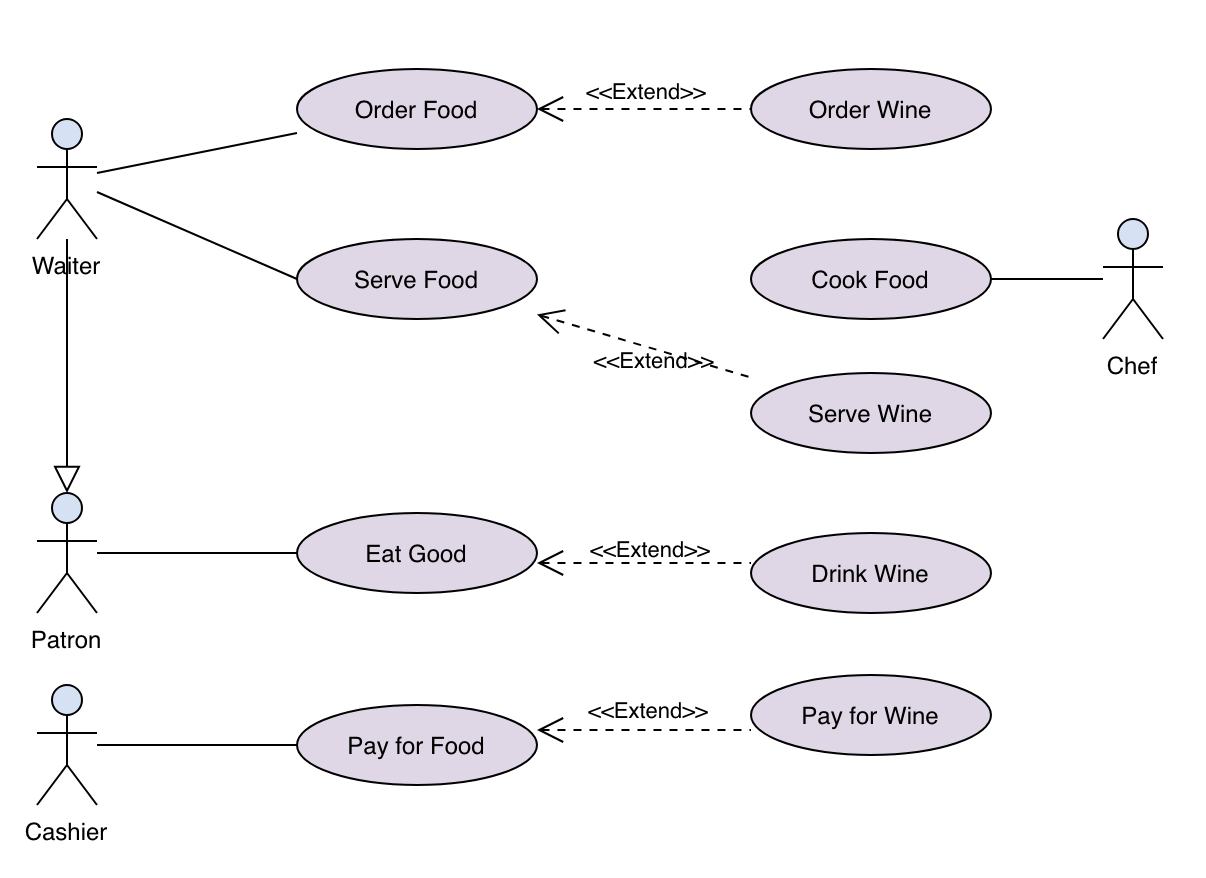actor: (31, 680, 104, 811), (1103, 213, 1170, 345), (31, 492, 99, 620), (35, 117, 98, 248)
association: (96, 188, 300, 280), (537, 306, 749, 382), (98, 131, 302, 175), (537, 715, 756, 752), (539, 92, 747, 125), (539, 549, 751, 578), (96, 731, 294, 756), (97, 542, 295, 564), (996, 269, 1107, 292)
text: (797, 696, 944, 732), (338, 730, 488, 763), (348, 91, 487, 126), (588, 340, 709, 379), (346, 263, 484, 297), (801, 558, 938, 591), (802, 396, 938, 429), (800, 263, 939, 295), (584, 689, 711, 724), (581, 70, 707, 105), (801, 95, 940, 124), (361, 539, 468, 571), (586, 535, 715, 560), (17, 817, 119, 848), (21, 625, 109, 656), (1096, 348, 1161, 381), (33, 255, 106, 280)
use_case: (748, 671, 995, 760), (290, 66, 537, 152), (295, 509, 539, 596), (748, 370, 993, 456), (750, 237, 992, 324), (292, 238, 538, 323), (749, 530, 992, 616), (746, 67, 991, 152), (299, 702, 540, 788)
